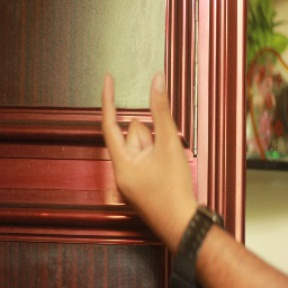U: (93, 65, 185, 197)
